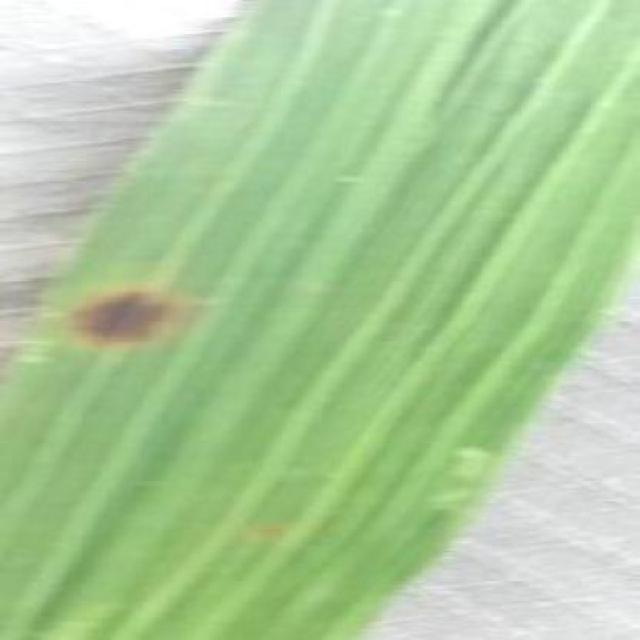Leaf_Blast: (25, 248, 198, 375), (248, 517, 289, 545)
